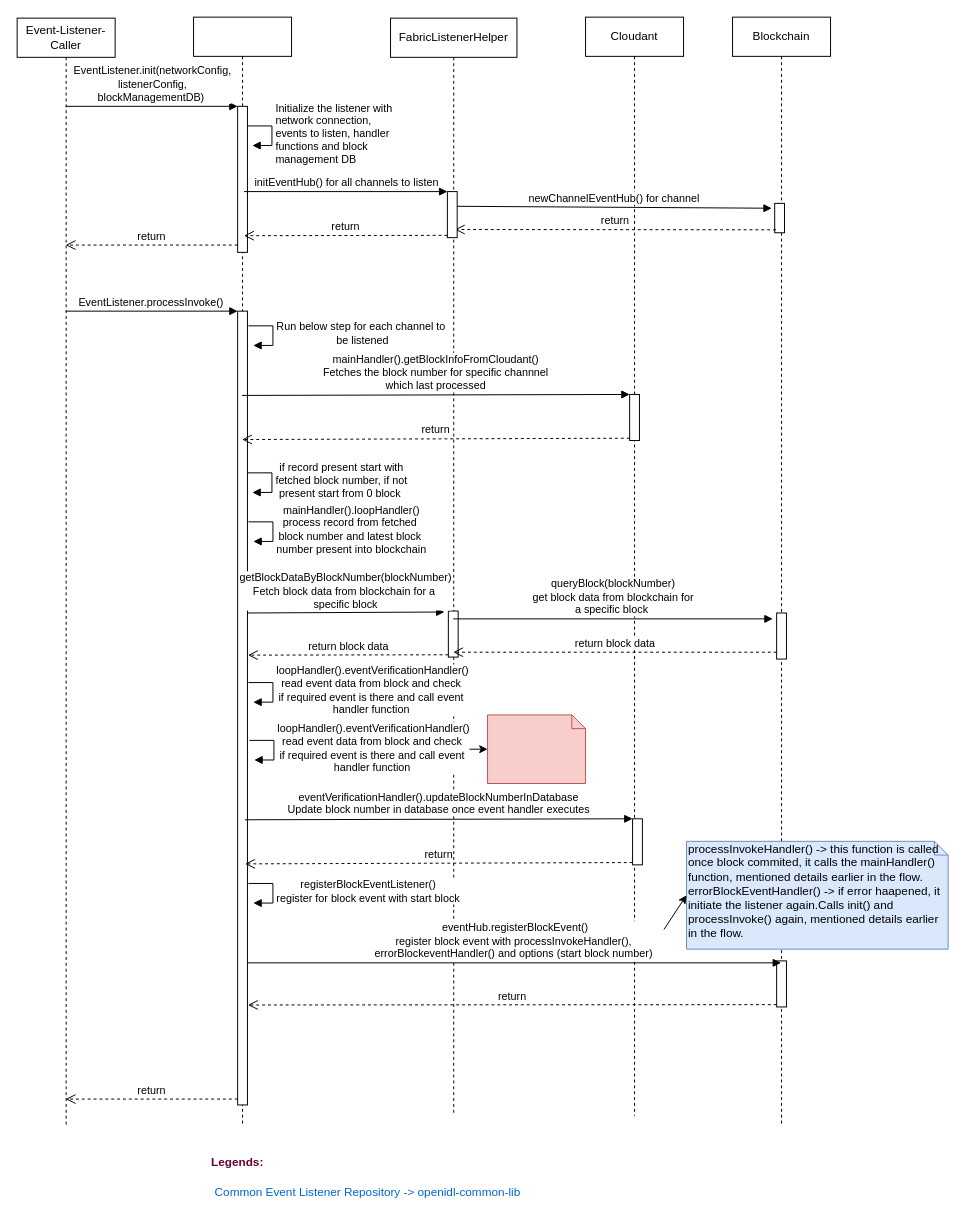
This 965x1219 diagram has some shape labels left out. Each missing label, with the box of its shape:
EventListener: (193, 16, 292, 1126)
See event handler details in specific listener sequence diagram: (487, 714, 586, 784)
